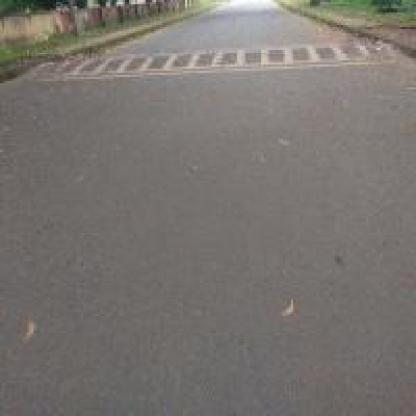Speed Bump: (27, 38, 401, 84)
